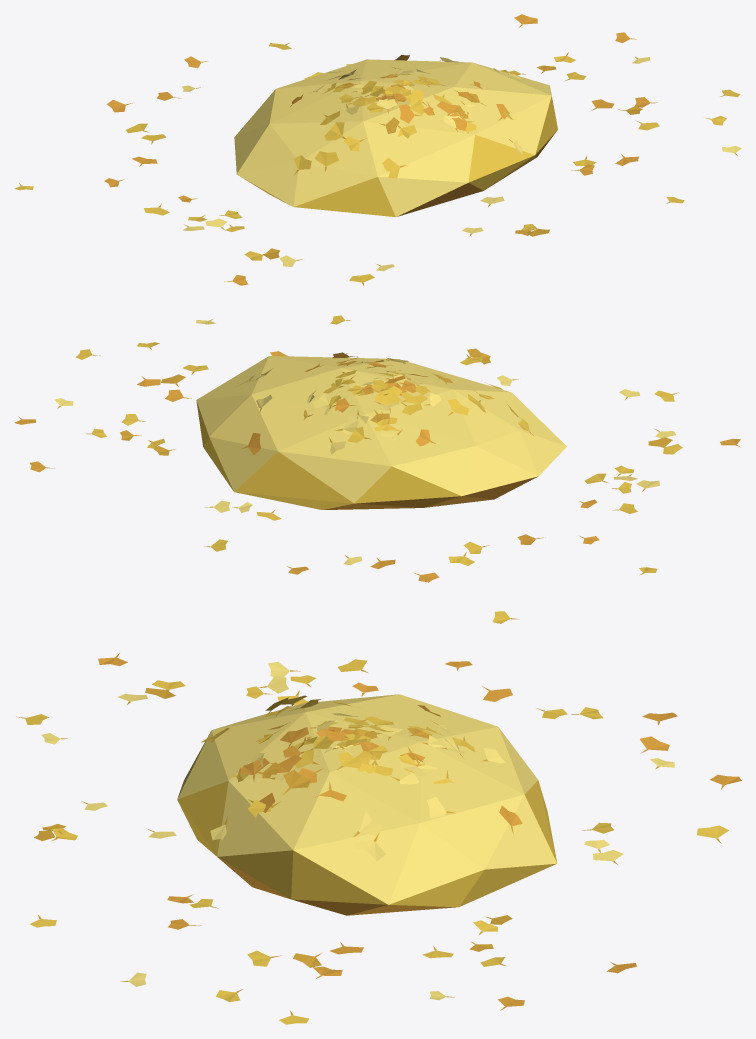
File: SC_Nat_Leaf_Pile_Ginkgo.gltf
3 renders of one model, top to bottom at view 1: azimuth 30°, elevation 25°; view 2: azimuth 150°, elevation 25°; view 3: azimuth 270°, elevation 25°, orthographic. The views are drawn at different scales.
Parts seen in each view (by area): view 1: SC_Nat_Leaf_Pile_Ginkgo; view 2: SC_Nat_Leaf_Pile_Ginkgo; view 3: SC_Nat_Leaf_Pile_Ginkgo.
Boxes of the visible parts, x1=… form: SC_Nat_Leaf_Pile_Ginkgo: x1=14, y1=14, x2=741, y2=285; SC_Nat_Leaf_Pile_Ginkgo: x1=14, y1=315, x2=740, y2=582; SC_Nat_Leaf_Pile_Ginkgo: x1=16, y1=611, x2=741, y2=1024.
Bounding box in the file's own units: 2.8 × 0.2843 × 2.09.
Materials: 1 (1 with a texture image).
